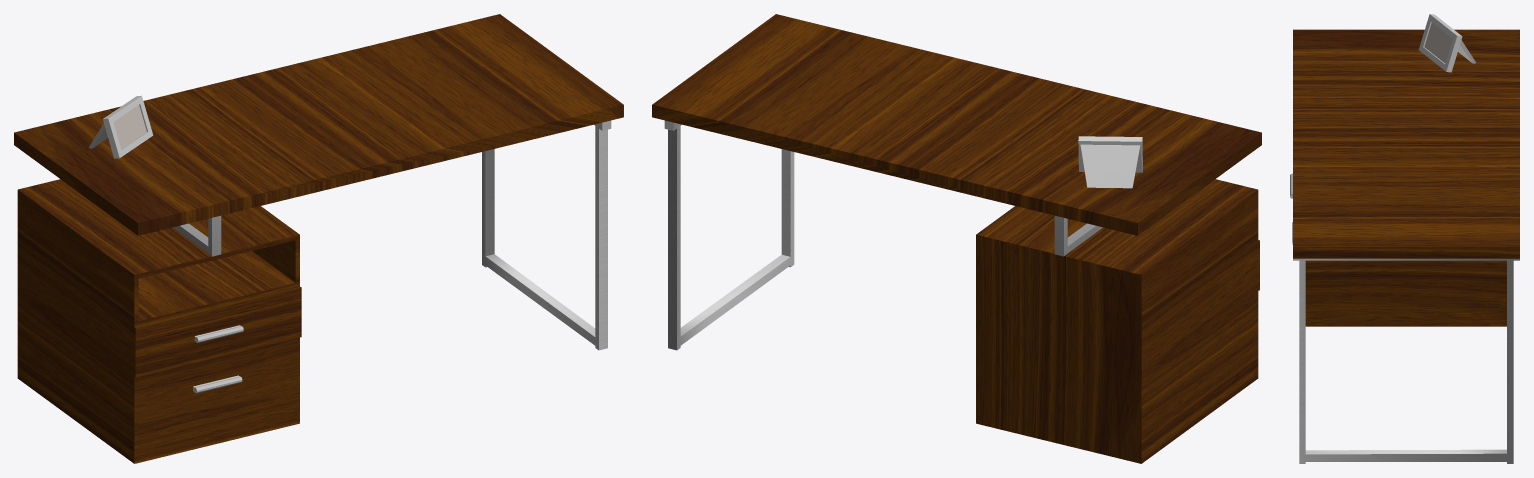
File: office-desk_scaled.obj
3 renders of one model, left to right at view 1: azimuth 30°, elevation 25°; view 2: azimuth 150°, elevation 25°; view 3: azimuth 270°, elevation 25°, orthographic. The views are drawn at different scales.
Visible parts, largest first — view 1: obj6, obj3, obj7, obj2, obj1; view 2: obj6, obj3, obj7, obj2; view 3: obj6, obj3, obj7, obj2, obj1.
Part boxes in pixels (box(x1,y1,x2,y2)): obj6: box(14, 14, 623, 235); obj3: box(17, 179, 301, 463); obj7: box(173, 120, 611, 350); obj2: box(88, 95, 153, 158); obj1: box(113, 105, 146, 148); obj6: box(652, 14, 1261, 235); obj3: box(976, 179, 1259, 463); obj7: box(664, 120, 1102, 350); obj2: box(1078, 136, 1142, 188); obj6: box(1293, 29, 1519, 258); obj3: box(1305, 260, 1506, 326); obj7: box(1293, 258, 1519, 463); obj2: box(1418, 14, 1476, 72); obj1: box(1424, 22, 1452, 63).
Bounding box in the file's own units: 1.49 × 0.8259 × 0.6653.
